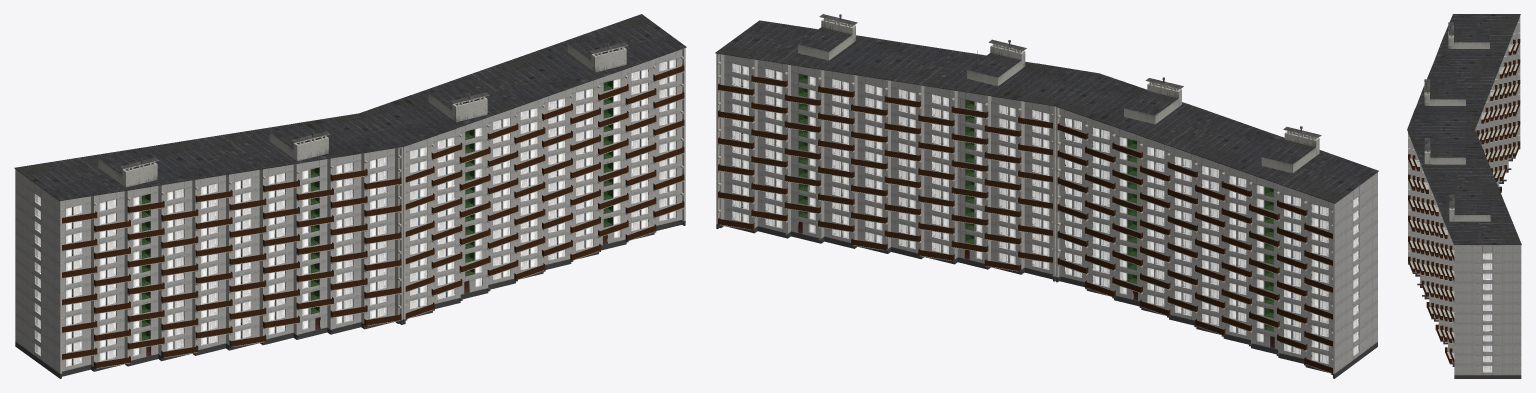
The picture shows the model from 3 angles, left to right: view 1: azimuth 30°, elevation 25°; view 2: azimuth 150°, elevation 25°; view 3: azimuth 270°, elevation 25°; orthographic projection. The views are drawn at different scales.
Visible parts, largest first — view 1: II_68_04a_Material__30_0, II_68_04b; view 2: II_68_04b, II_68_04a_Material__30_0; view 3: II_68_04b, II_68_04a_Material__30_0.
Part boxes in pixels (x1=…): II_68_04a_Material__30_0: x1=14, y1=113, x2=403, y2=378; II_68_04b: x1=359, y1=14, x2=686, y2=324; II_68_04b: x1=715, y1=14, x2=1099, y2=281; II_68_04a_Material__30_0: x1=1055, y1=73, x2=1378, y2=378; II_68_04b: x1=1407, y1=129, x2=1521, y2=378; II_68_04a_Material__30_0: x1=1407, y1=14, x2=1520, y2=192.
Size of the model in its own units: 201 by 62.03 by 42.35.
